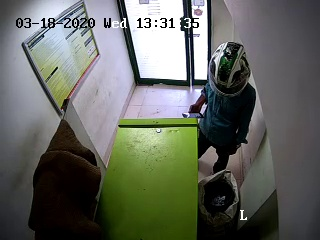helmet: (205, 41, 252, 98)
